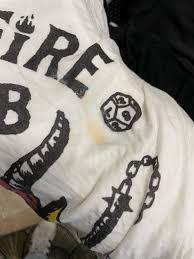lipstick: (84, 122, 103, 149)
